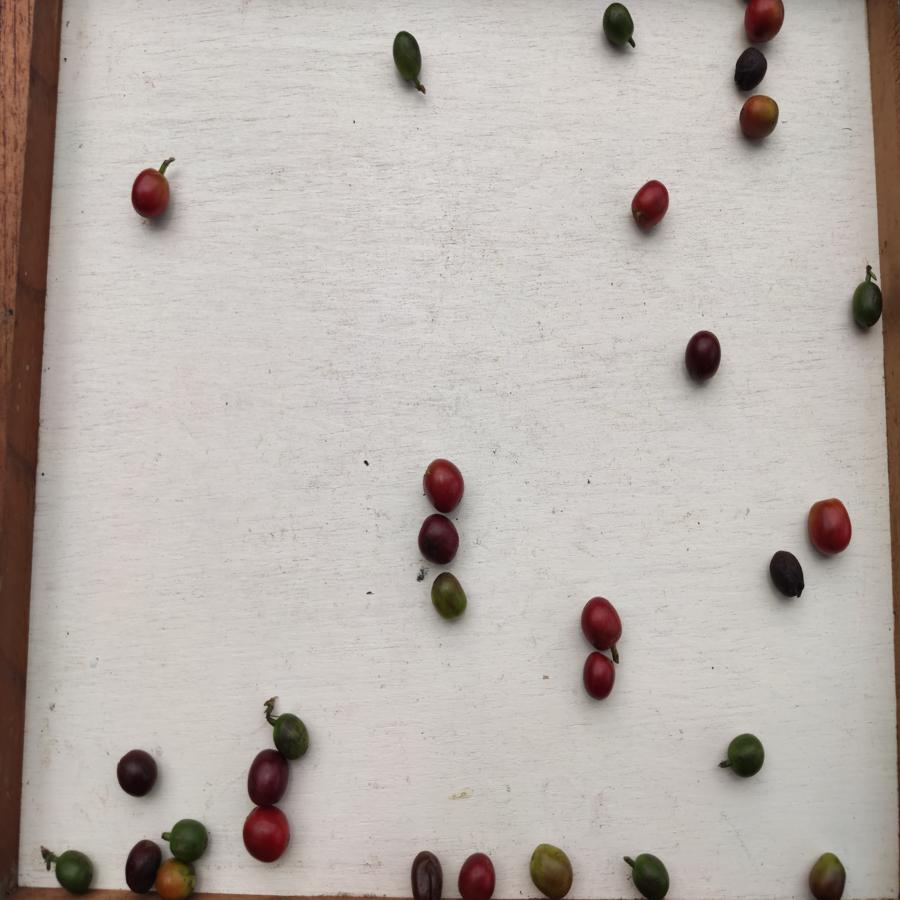Inmaduro: (629, 852, 673, 900), (600, 3, 639, 54), (49, 850, 96, 892), (848, 279, 884, 332), (165, 817, 210, 858), (724, 732, 764, 778), (271, 713, 310, 758), (392, 31, 425, 82)
Maduro: (241, 806, 294, 865), (417, 455, 468, 512), (807, 494, 853, 556), (578, 592, 625, 652), (129, 168, 177, 223), (628, 179, 672, 230), (454, 852, 498, 900), (744, 1, 786, 44), (581, 652, 617, 702)
Pinton: (528, 843, 576, 898), (807, 851, 853, 900), (738, 94, 783, 143), (428, 574, 470, 620), (157, 859, 201, 899)
Sobremaduro: (684, 329, 727, 384), (246, 752, 291, 804), (114, 749, 160, 798), (766, 548, 804, 603), (123, 838, 158, 891), (409, 850, 445, 900), (732, 47, 768, 91)
